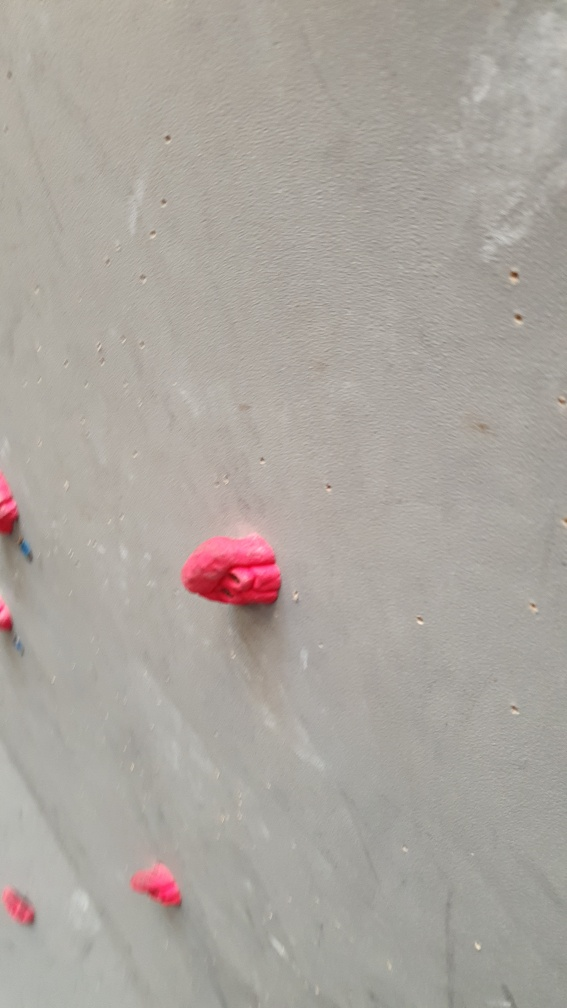Jug: (184, 535, 284, 614), (128, 856, 181, 907)
